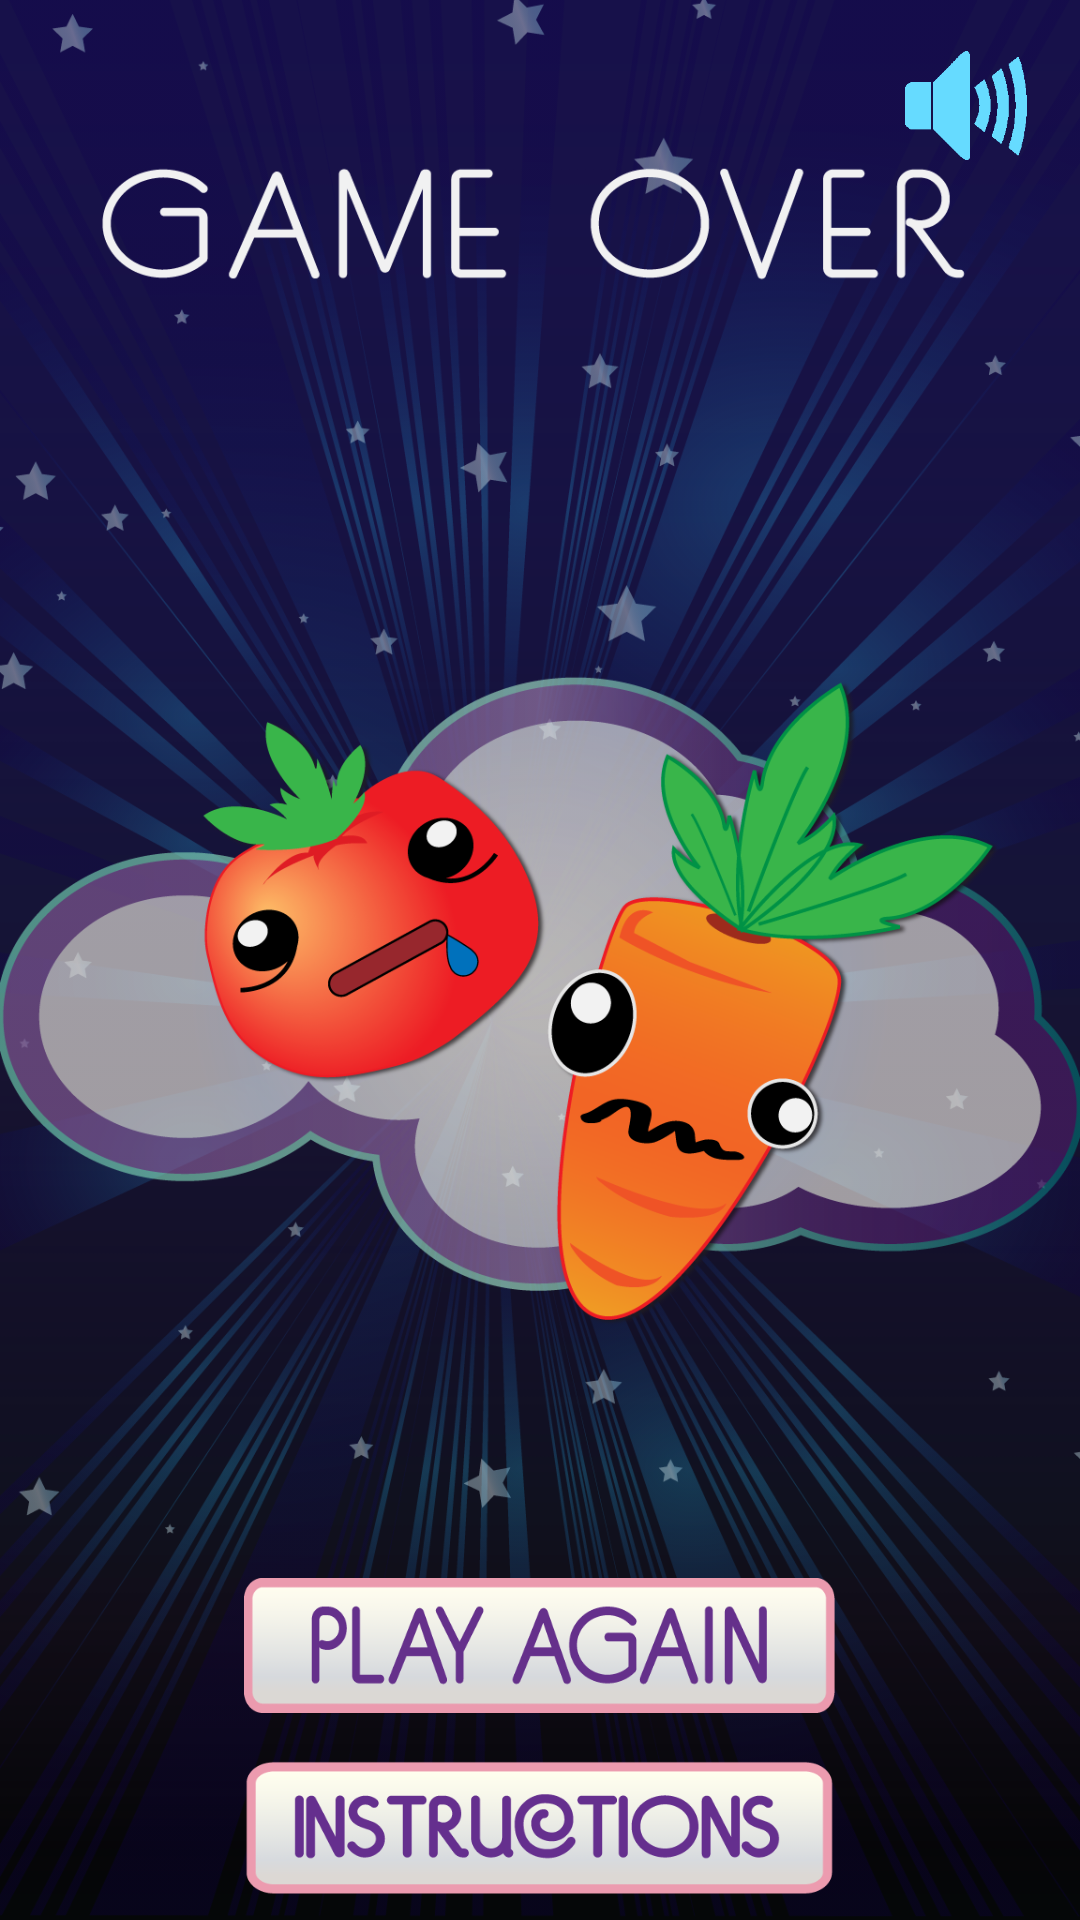

Icons on this 1080×1920 Android screen, each with its box as (x1, y1, x2, y2):
sound on: (905, 51, 1027, 160)
